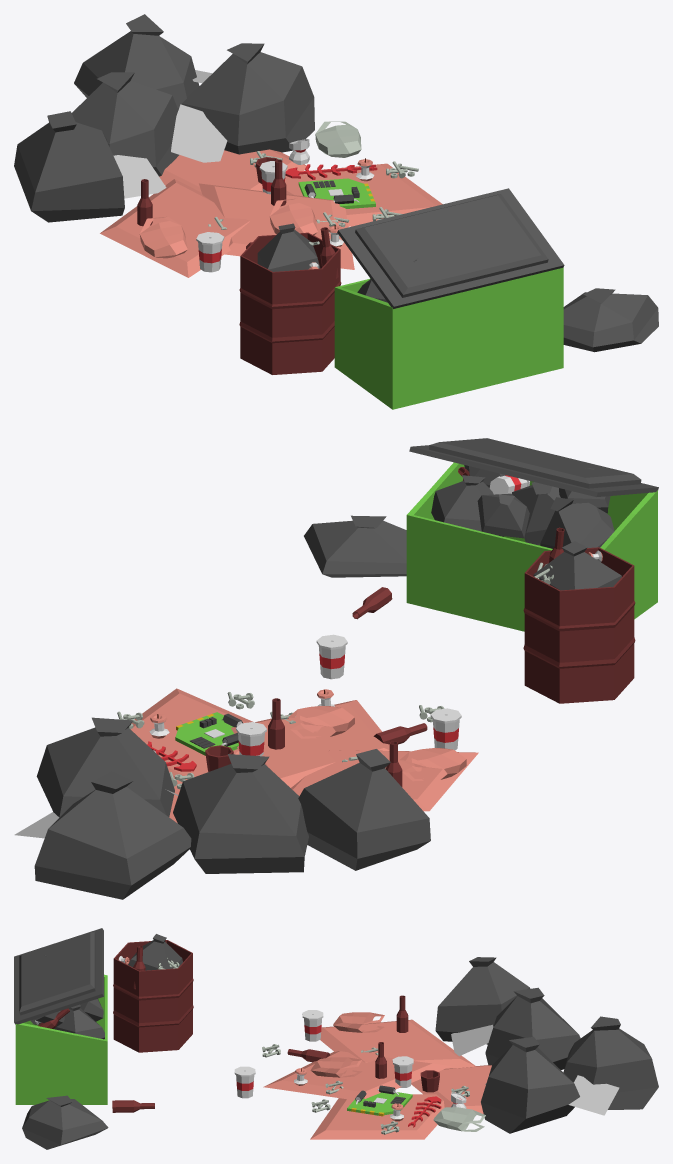
File: déchet mesh 5.fbx
3 views of the same model, one above another, from view 1: azimuth 30°, elevation 25°; view 2: azimuth 150°, elevation 25°; view 3: azimuth 270°, elevation 25° (orthographic). The views are drawn at different scales.
Visible parts, largest first — view 1: entrepot dechets 6.008; view 2: entrepot dechets 6.008; view 3: entrepot dechets 6.008.
Boxes of the visible parts, box(x1,y1,x2,y2) form: entrepot dechets 6.008: box(14, 14, 658, 409); entrepot dechets 6.008: box(14, 438, 658, 899); entrepot dechets 6.008: box(14, 928, 658, 1149).
Size of the model in its own units: 743 by 287 by 1410.
